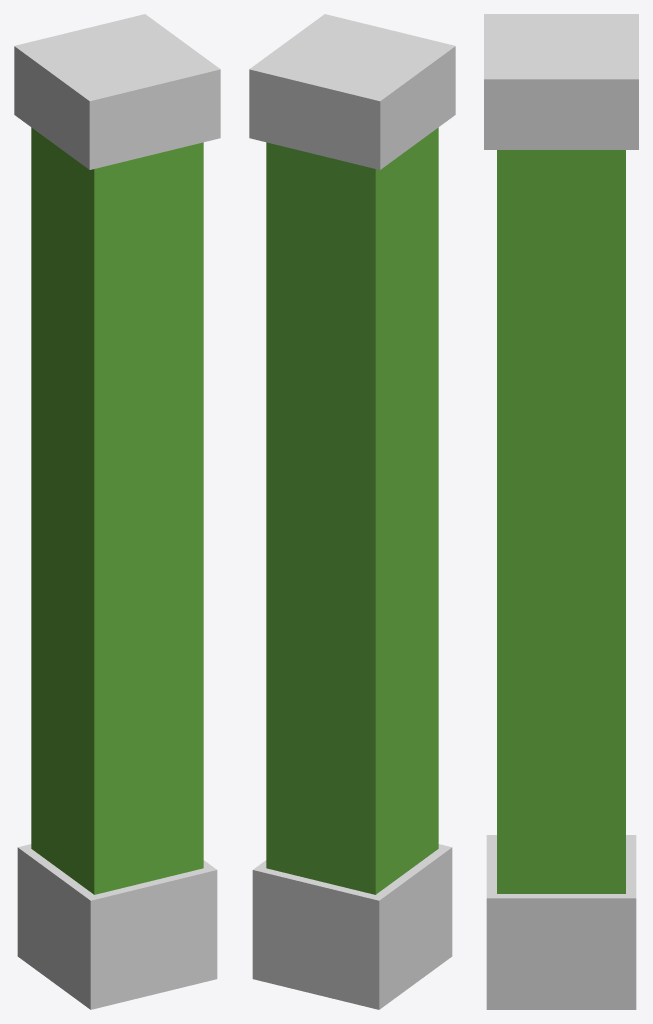
The model's file is wall_column.fbx.
3 views of the same model, side by side, from view 1: azimuth 30°, elevation 25°; view 2: azimuth 150°, elevation 25°; view 3: azimuth 270°, elevation 25° (orthographic). The views are drawn at different scales.
Parts seen in each view (by area): view 1: wall_column; view 2: wall_column; view 3: wall_column.
Boxes of the visible parts, bbox=[...] form: wall_column: bbox=[14, 14, 220, 1009]; wall_column: bbox=[249, 14, 455, 1009]; wall_column: bbox=[484, 14, 638, 1009].
Bounding box in the file's own units: 41.16 × 273 × 41.16.
